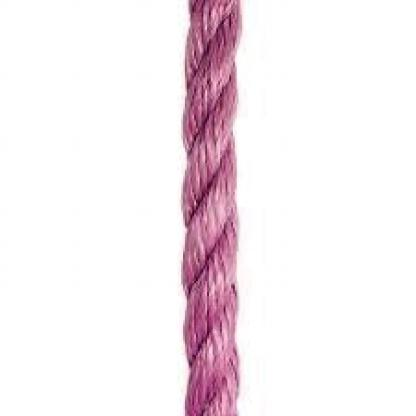Rope: (172, 2, 247, 414)
